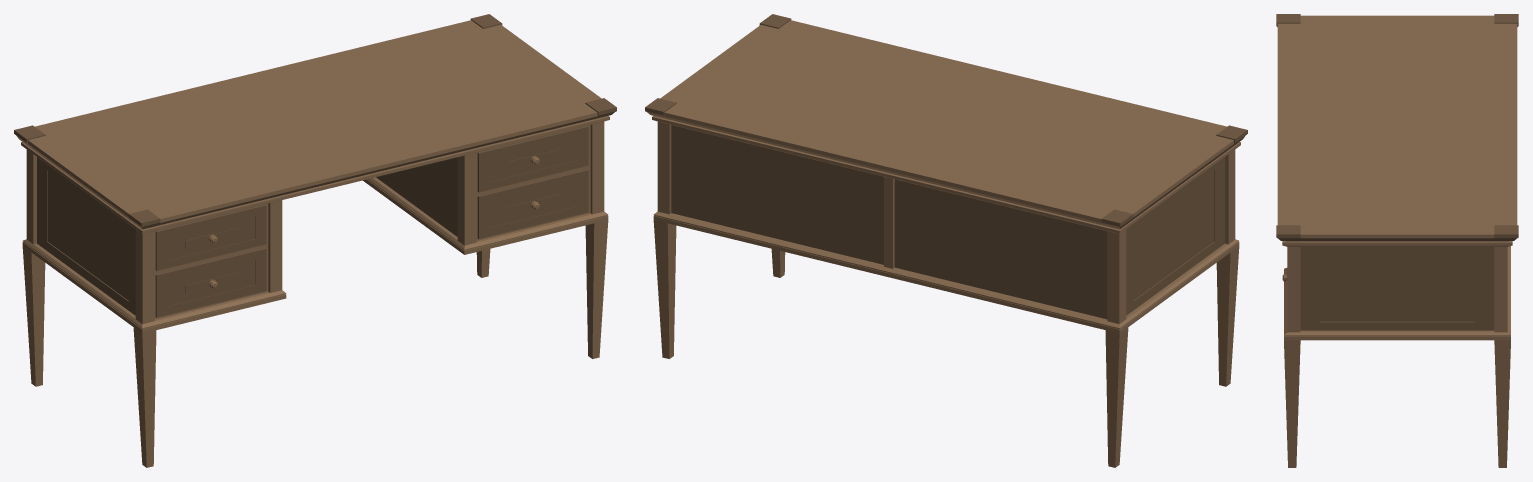
The model's file is home_desk.fbx.
3 views of the same model, side by side, from view 1: azimuth 30°, elevation 25°; view 2: azimuth 150°, elevation 25°; view 3: azimuth 270°, elevation 25° (orthographic). The views are drawn at different scales.
Parts seen in each view (by area): view 1: home_desk_LOD0; view 2: home_desk_LOD0; view 3: home_desk_LOD0.
Part boxes in pixels (left/top/right/bottom): home_desk_LOD0: left=14, top=14, right=616, bottom=467; home_desk_LOD0: left=645, top=14, right=1247, bottom=467; home_desk_LOD0: left=1276, top=14, right=1518, bottom=467.
Size of what is drawn, in the model's own units: 1.5 by 0.76 by 0.6975.
